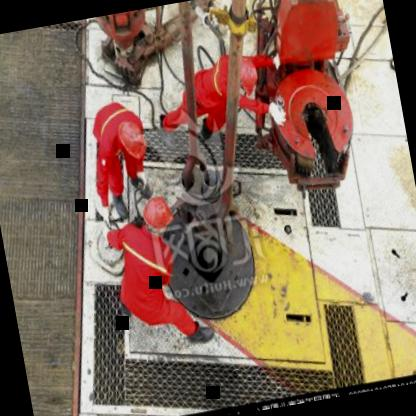helmet: (140, 191, 180, 242), (224, 50, 264, 97), (117, 115, 147, 162)
